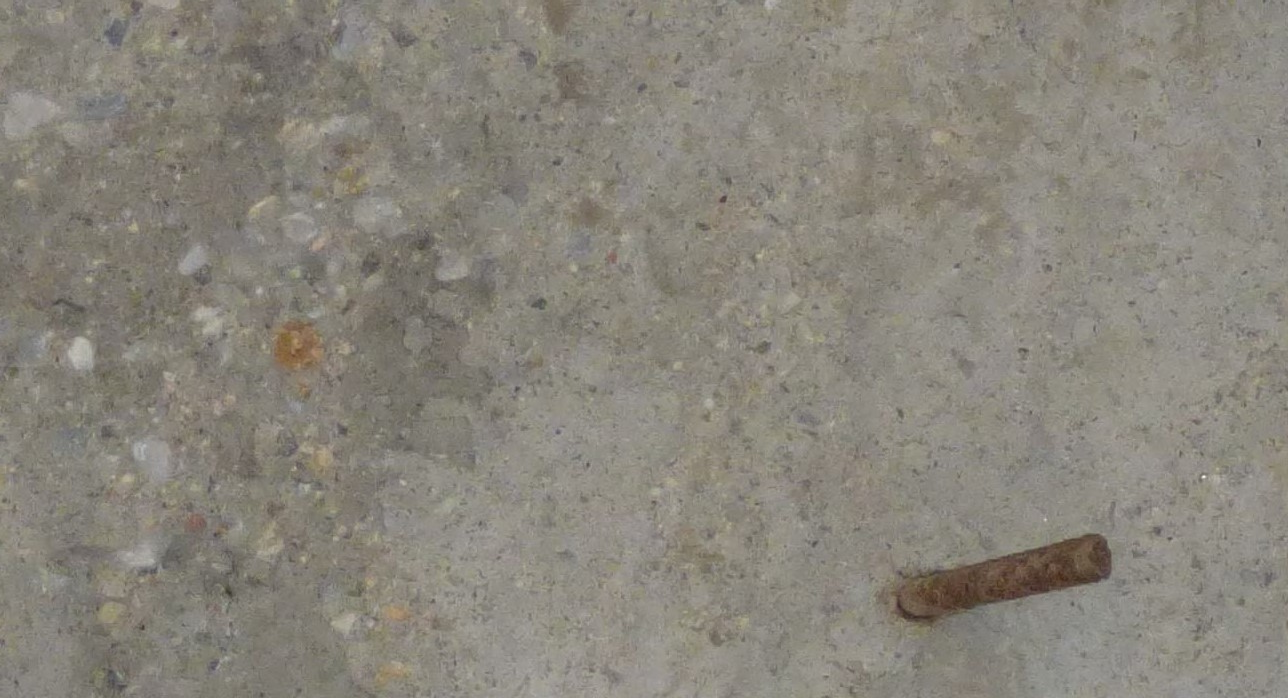Corrosion: (274, 321, 320, 370)
Exposed reinforcement: (898, 534, 1113, 620)
